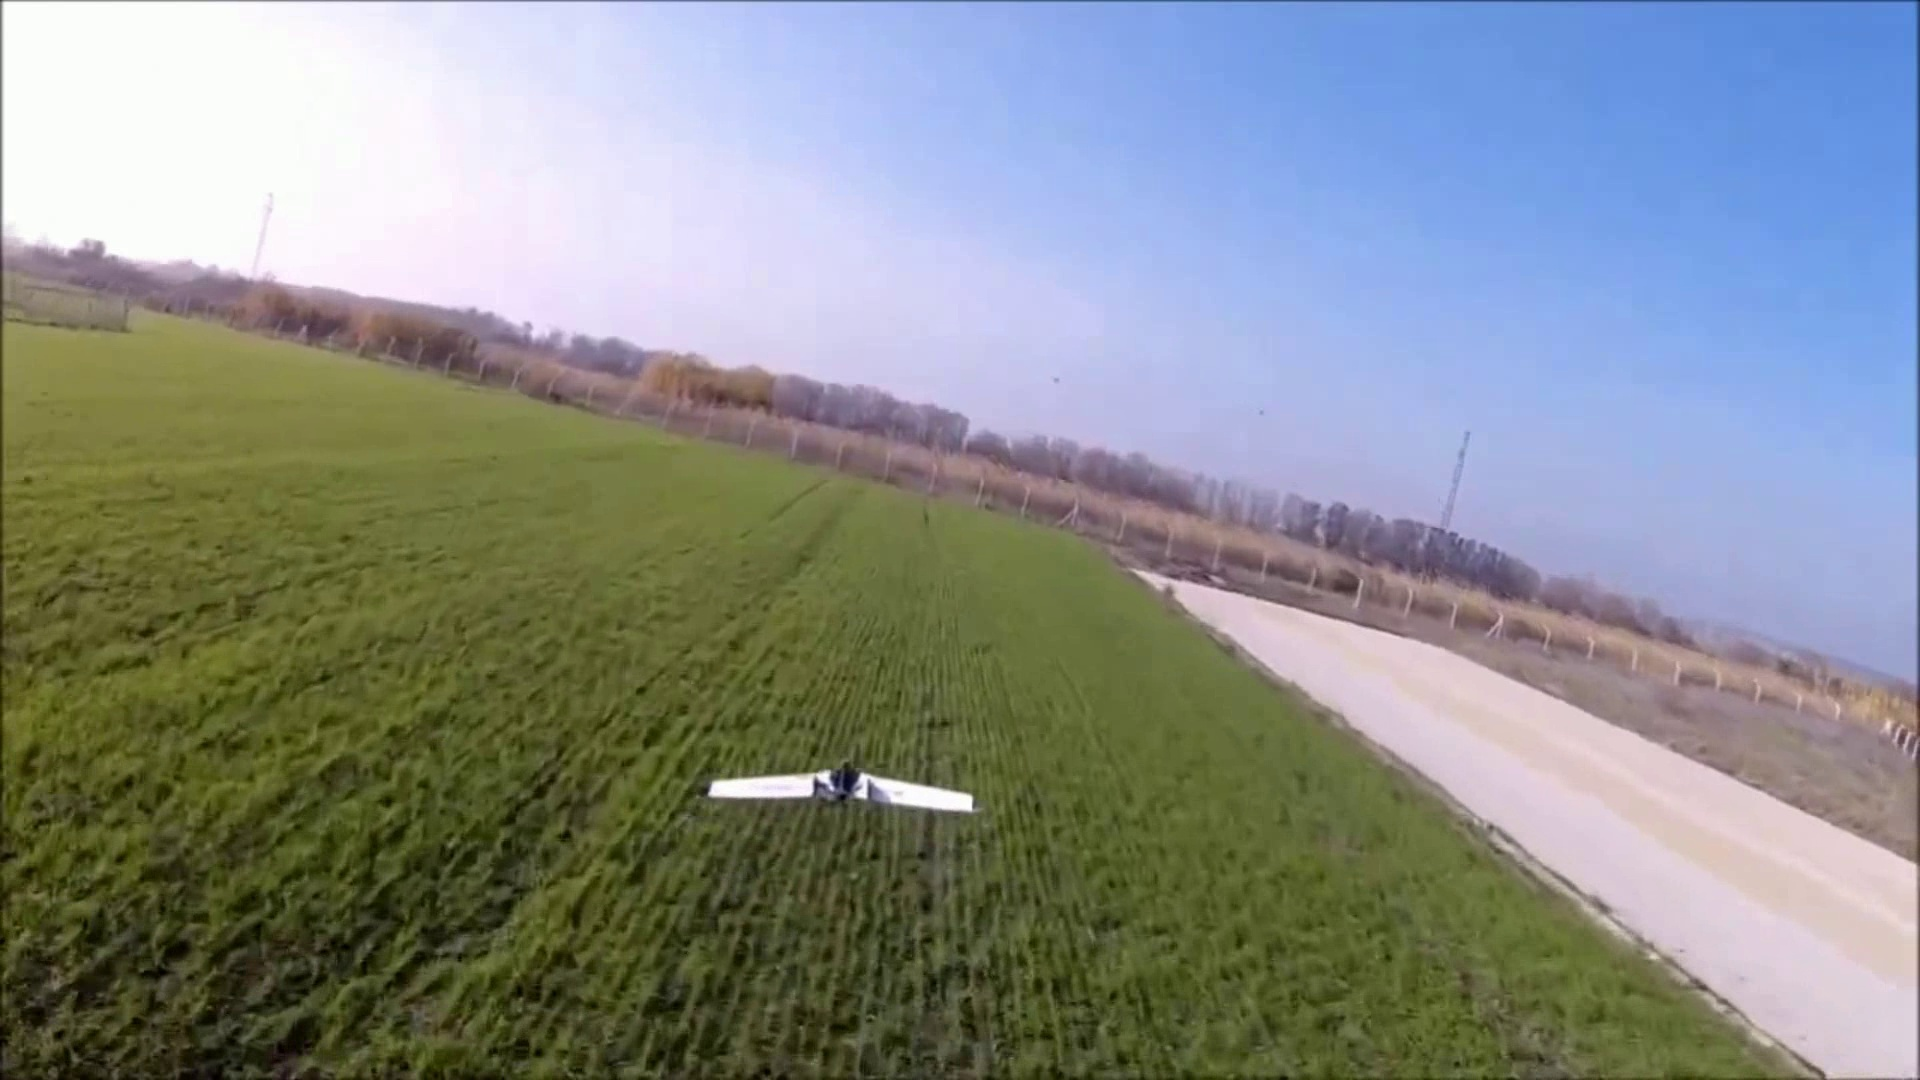airplane: (708, 764, 975, 814)
